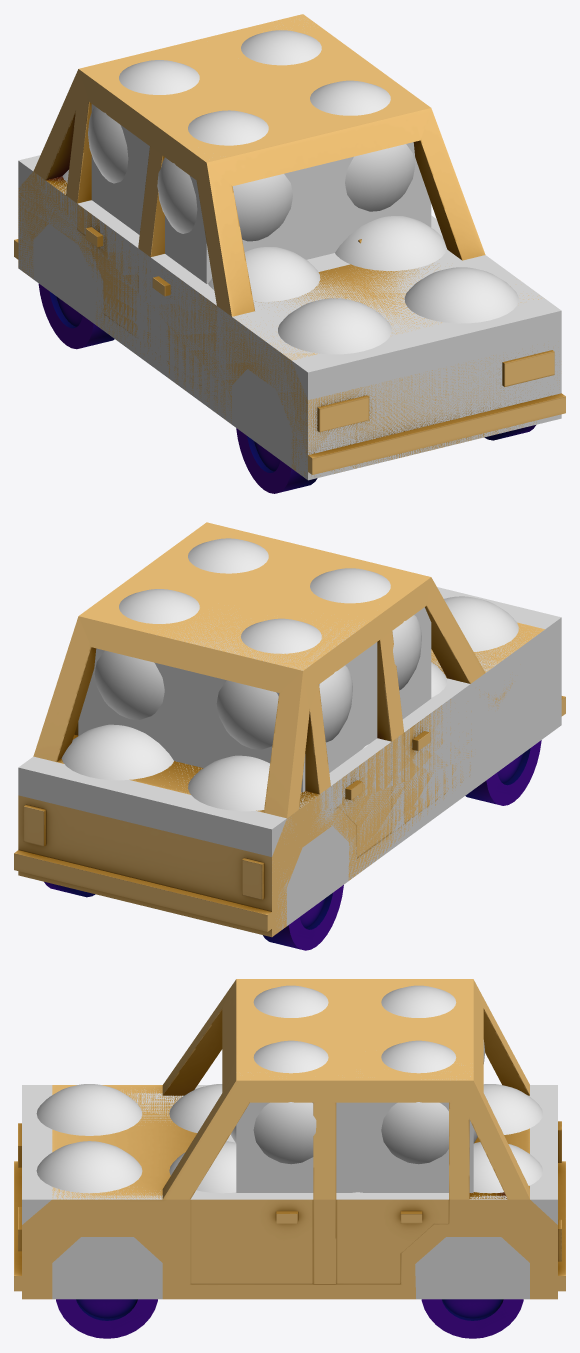
File: car.glb
3 renders of one model, top to bottom at view 1: azimuth 30°, elevation 25°; view 2: azimuth 150°, elevation 25°; view 3: azimuth 270°, elevation 25°, orthographic. The views are drawn at different scales.
Parts seen in each view (by area): view 1: body, Cube.006, Cube.002, Sphere.002, Sphere.001, Sphere, Sphere.003, Sphere.010, Sphere.007, Sphere.011, door_4, door_2 (+3 smaller); view 2: body, Cube.006, Cube.002, Sphere.007, Sphere.004, Sphere.005, door_4, Sphere.002, Sphere.006, door_2, Sphere.003, Sphere.001 (+2 smaller); view 3: body, Cube.006, Cube.002, door_1, door_3, Sphere.004, Sphere.001, Sphere, Sphere.003, Cylinder.001, wheel_fl, Sphere.006 (+5 smaller).
Boxes of the visible parts, bbox=[...] form: body: bbox=[14, 14, 565, 477]; Cube.006: bbox=[18, 155, 561, 480]; Cube.002: bbox=[91, 25, 431, 283]; Sphere.002: bbox=[157, 110, 292, 241]; Sphere.001: bbox=[310, 80, 414, 211]; Sphere: bbox=[404, 267, 518, 368]; Sphere.003: bbox=[278, 298, 391, 399]; Sphere.010: bbox=[335, 216, 446, 270]; Sphere.007: bbox=[88, 60, 199, 183]; Sphere.011: bbox=[208, 247, 320, 301]; door_4: bbox=[77, 204, 138, 337]; door_2: bbox=[152, 269, 216, 396]; body: bbox=[14, 522, 565, 937]; Cube.006: bbox=[18, 587, 561, 930]; Cube.002: bbox=[78, 607, 431, 792]; Sphere.007: bbox=[216, 618, 352, 749]; Sphere.004: bbox=[94, 589, 199, 719]; Sphere.005: bbox=[61, 724, 173, 780]; door_4: bbox=[331, 742, 391, 857]; Sphere.002: bbox=[310, 568, 421, 690]; Sphere.006: bbox=[188, 755, 269, 811]; door_2: bbox=[404, 699, 470, 823]; Sphere.003: bbox=[444, 596, 518, 651]; Sphere.001: bbox=[188, 538, 268, 573]; body: bbox=[14, 979, 565, 1299]; Cube.006: bbox=[22, 1085, 557, 1299]; Cube.002: bbox=[236, 1065, 473, 1192]; door_1: bbox=[190, 1199, 313, 1283]; door_3: bbox=[336, 1199, 448, 1283]; Sphere.004: bbox=[381, 1040, 477, 1164]; Sphere.001: bbox=[230, 1040, 328, 1164]; Sphere: bbox=[36, 1141, 142, 1193]; Sphere.003: bbox=[36, 1084, 142, 1135]; Cylinder.001: bbox=[421, 1299, 523, 1338]; wheel_fl: bbox=[56, 1299, 157, 1338]; Sphere.006: bbox=[483, 1084, 542, 1134].
Bounding box in the file's own units: 1.28 × 1.31 × 2.49.
Materials: 2 (2 with a texture image).
